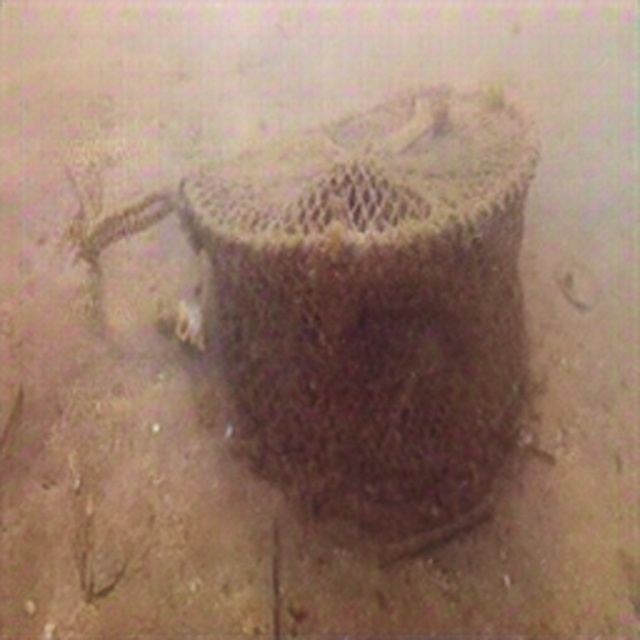mine: (178, 84, 541, 522)
